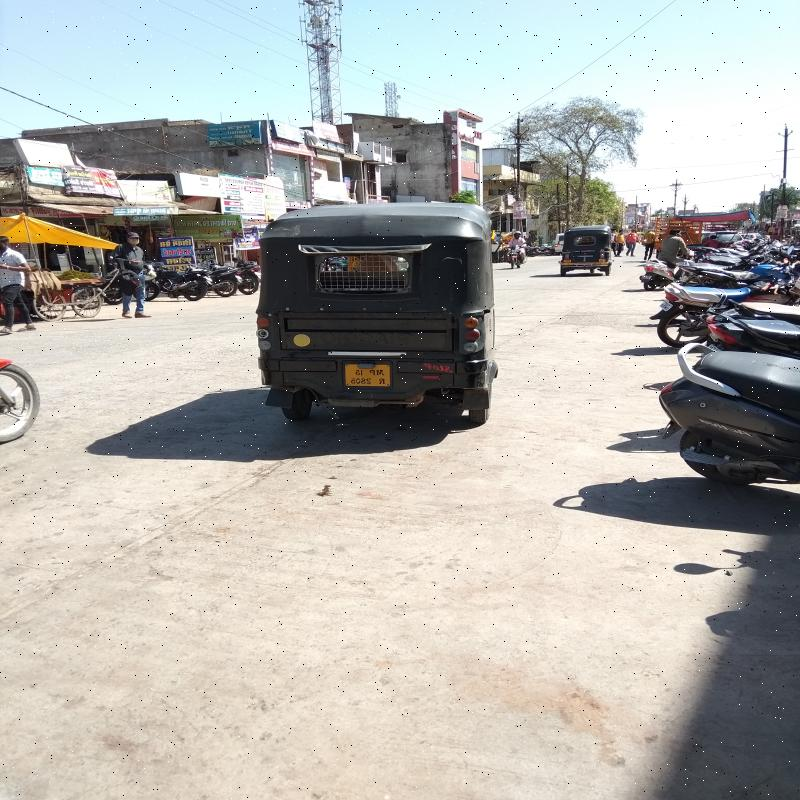auto: (266, 209, 492, 419), (563, 229, 611, 283)
